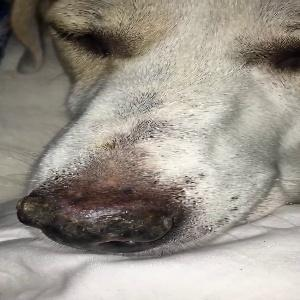keratosis: (11, 191, 178, 239)
